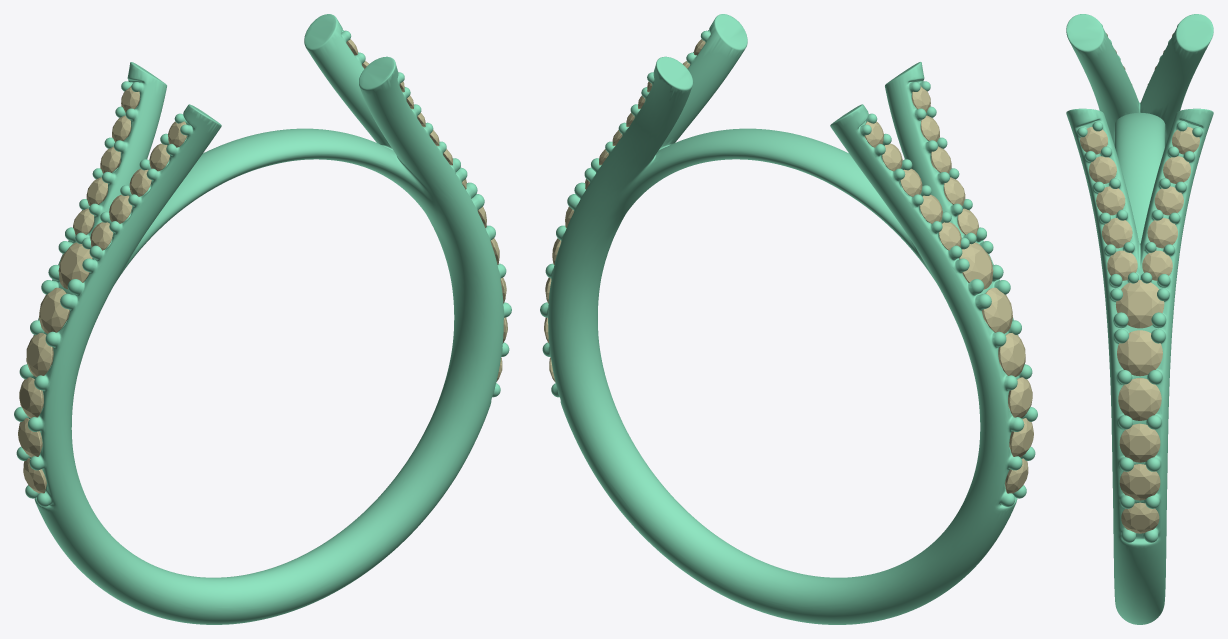
3 renders of one model, left to right at view 1: azimuth 30°, elevation 25°; view 2: azimuth 150°, elevation 25°; view 3: azimuth 270°, elevation 25°, orthographic. The views are drawn at different scales.
Parts seen in each view (by area): view 1: Metal02, Diamond_Gem.029, Diamond_Gem.016, Diamond_Gem.027, Diamond_Gem.031; view 2: Metal02, Diamond_Gem.029, Diamond_Gem.016, Diamond_Gem.027, Diamond_Gem.031; view 3: Metal02, Diamond_Gem.015, Diamond_Gem.002, Diamond_Gem.004, Diamond_Gem, Diamond_Gem.001, Diamond_Gem.003, Diamond_Gem.009, Diamond_Gem.012, Diamond_Gem.011, Diamond_Gem.010, Diamond_Gem.013 (+5 smaller).
Boxes of the visible parts, x1=… form: Metal02: x1=14, y1=14, x2=511, y2=624; Diamond_Gem.029: x1=39, y1=287, x2=69, y2=333; Diamond_Gem.016: x1=58, y1=242, x2=92, y2=289; Diamond_Gem.027: x1=26, y1=333, x2=53, y2=376; Diamond_Gem.031: x1=19, y1=377, x2=43, y2=418; Metal02: x1=540, y1=14, x2=1037, y2=624; Diamond_Gem.029: x1=982, y1=287, x2=1012, y2=333; Diamond_Gem.016: x1=959, y1=242, x2=993, y2=289; Diamond_Gem.027: x1=998, y1=333, x2=1025, y2=376; Diamond_Gem.031: x1=1008, y1=377, x2=1032, y2=418; Metal02: x1=1066, y1=14, x2=1213, y2=624; Diamond_Gem.015: x1=1115, y1=280, x2=1164, y2=328; Diamond_Gem.002: x1=1117, y1=330, x2=1162, y2=376; Diamond_Gem.004: x1=1118, y1=378, x2=1161, y2=420; Diamond_Gem: x1=1119, y1=423, x2=1160, y2=462; Diamond_Gem.001: x1=1119, y1=464, x2=1160, y2=500; Diamond_Gem.003: x1=1121, y1=502, x2=1159, y2=533; Diamond_Gem.009: x1=1147, y1=218, x2=1177, y2=248; Diamond_Gem.012: x1=1102, y1=218, x2=1132, y2=248; Diamond_Gem.011: x1=1107, y1=250, x2=1137, y2=280; Diamond_Gem.010: x1=1142, y1=250, x2=1172, y2=280; Diamond_Gem.013: x1=1096, y1=186, x2=1125, y2=215.
Size of the model in its own units: 21.19 by 23.31 by 5.78.
